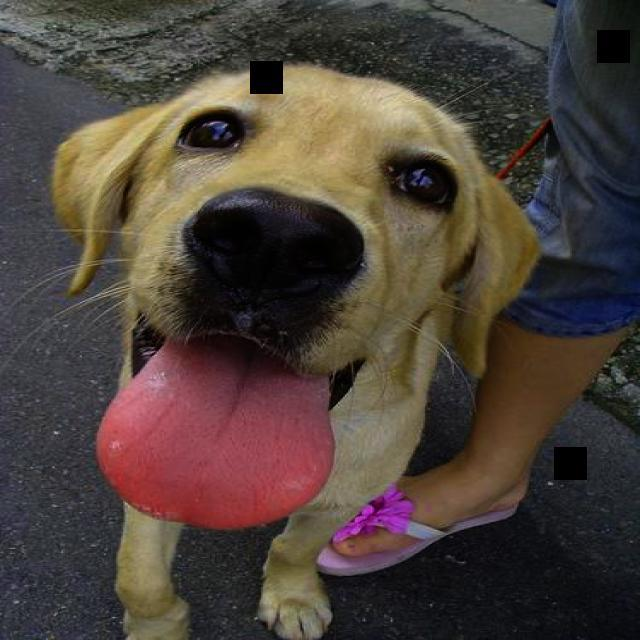adult_dog: (37, 61, 555, 640)
non-dog: (318, 1, 640, 572)
